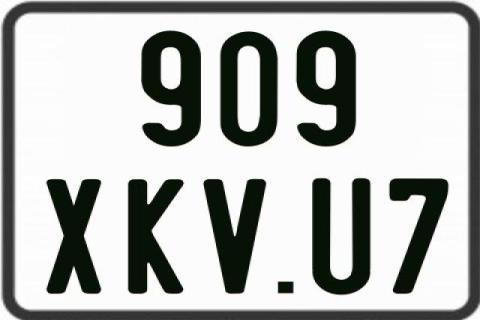0: (295, 31, 359, 147), (141, 30, 203, 146), (219, 29, 279, 147), (389, 177, 449, 295)
K: (128, 178, 184, 296)
U: (311, 179, 369, 297)
V: (202, 179, 266, 295)
X: (45, 179, 99, 295)
